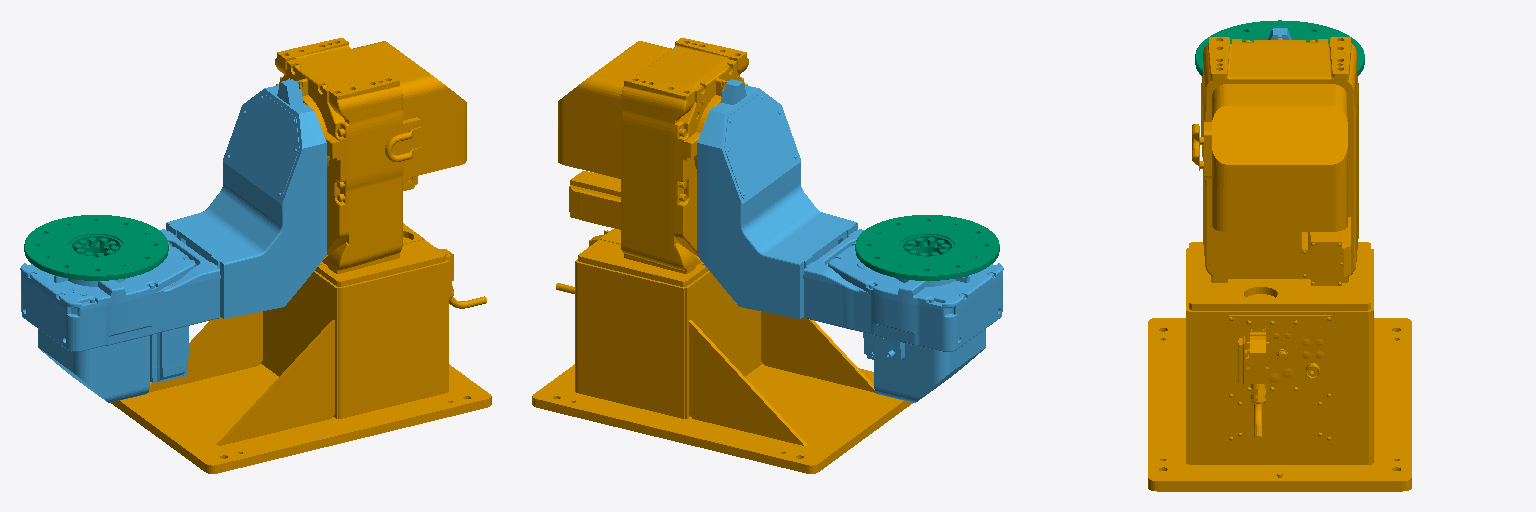
The robot description file, URDF, robot "Irbpa-500_D1000-H700_IRC5_rev02_CAD":
<?xml version="1.0" ?>
<robot name="Irbpa-500_D1000-H700_IRC5_rev02_CAD">

<link name="base_link">
  <inertial>
    <origin xyz="0.913511790946396 0.001453535026860657 0.4791474717826567" rpy="0 0 0"/>
    <mass value="1620.403998949394"/>
    <inertia ixx="221.809462" iyy="236.859274" izz="78.452145" ixy="-0.323189" iyz="-0.357894" ixz="-25.463331"/>
  </inertial>
  <visual>
    <origin xyz="0 0 0" rpy="0 0 0"/>
    <geometry>
      <mesh filename="package://Irbpa-500_D1000-H700_IRC5_rev02_CAD_description/meshes/base_link.stl" scale="0.001 0.001 0.001"/>
    </geometry>
    <material name="silver"/>
  </visual>
  <collision>
    <origin xyz="0 0 0" rpy="0 0 0"/>
    <geometry>
      <mesh filename="package://Irbpa-500_D1000-H700_IRC5_rev02_CAD_description/meshes/base_link.stl" scale="0.001 0.001 0.001"/>
    </geometry>
  </collision>
</link>

<link name="Irbpa-500_D1000-H700_IRC5_rev02_arm500A_CAD_1">
  <inertial>
    <origin xyz="-0.5359022486015766 -0.0033357651582393262 -0.36304474957646027" rpy="0 0 0"/>
    <mass value="511.1252334711299"/>
    <inertia ixx="22.821954" iyy="53.570647" izz="41.278063" ixy="0.038996" iyz="-0.339125" ixz="-19.039629"/>
  </inertial>
  <visual>
    <origin xyz="-0.722 0.0 -0.9" rpy="0 0 0"/>
    <geometry>
      <mesh filename="package://Irbpa-500_D1000-H700_IRC5_rev02_CAD_description/meshes/Irbpa-500_D1000-H700_IRC5_rev02_arm500A_CAD_1.stl" scale="0.001 0.001 0.001"/>
    </geometry>
    <material name="silver"/>
  </visual>
  <collision>
    <origin xyz="-0.722 0.0 -0.9" rpy="0 0 0"/>
    <geometry>
      <mesh filename="package://Irbpa-500_D1000-H700_IRC5_rev02_CAD_description/meshes/Irbpa-500_D1000-H700_IRC5_rev02_arm500A_CAD_1.stl" scale="0.001 0.001 0.001"/>
    </geometry>
  </collision>
</link>

<link name="Irbpa-500_D1000-H700_IRC5_rev02_platter_d450_CAD_1">
  <inertial>
    <origin xyz="-0.0011124864300729666 -5.688668147784807e-15 0.04336786560053996" rpy="0 0 0"/>
    <mass value="21.25030383337227"/>
    <inertia ixx="0.228504" iyy="0.231342" izz="0.446816" ixy="0.0" iyz="-0.0" ixz="-0.000583"/>
  </inertial>
  <visual>
    <origin xyz="0.0 0.0 -0.638" rpy="0 0 0"/>
    <geometry>
      <mesh filename="package://Irbpa-500_D1000-H700_IRC5_rev02_CAD_description/meshes/Irbpa-500_D1000-H700_IRC5_rev02_platter_d450_CAD_1.stl" scale="0.001 0.001 0.001"/>
    </geometry>
    <material name="silver"/>
  </visual>
  <collision>
    <origin xyz="0.0 0.0 -0.638" rpy="0 0 0"/>
    <geometry>
      <mesh filename="package://Irbpa-500_D1000-H700_IRC5_rev02_CAD_description/meshes/Irbpa-500_D1000-H700_IRC5_rev02_platter_d450_CAD_1.stl" scale="0.001 0.001 0.001"/>
    </geometry>
  </collision>
</link>

<joint name="j1" type="continuous">
  <origin xyz="0.722 0.0 0.9" rpy="0 0 0"/>
  <parent link="base_link"/>
  <child link="Irbpa-500_D1000-H700_IRC5_rev02_arm500A_CAD_1"/>
  <axis xyz="-1.0 -0.0 0.0"/>
</joint>

<joint name="j2" type="continuous">
  <origin xyz="-0.722 0.0 -0.262" rpy="0 0 0"/>
  <parent link="Irbpa-500_D1000-H700_IRC5_rev02_arm500A_CAD_1"/>
  <child link="Irbpa-500_D1000-H700_IRC5_rev02_platter_d450_CAD_1"/>
  <axis xyz="-0.0 0.0 -1.0"/>
</joint>

</robot>

--- Facts derived from the render (not from the file) ---
Views: 3 orthographic renders of the robot side by side, from view 1: azimuth 30°, elevation 25°; view 2: azimuth 150°, elevation 25°; view 3: azimuth 270°, elevation 25°.
Model Irbpa-500_D1000-H700_IRC5_rev02_CAD with 3 links and 2 joints (2 continuous), rooted at base_link, posed all joints at 0.
Visible links, largest first — view 1: base_link, Irbpa-500_D1000-H700_IRC5_rev02_arm500A_CAD_1, Irbpa-500_D1000-H700_IRC5_rev02_platter_d450_CAD_1; view 2: base_link, Irbpa-500_D1000-H700_IRC5_rev02_arm500A_CAD_1, Irbpa-500_D1000-H700_IRC5_rev02_platter_d450_CAD_1; view 3: base_link, Irbpa-500_D1000-H700_IRC5_rev02_platter_d450_CAD_1.
Link boxes in pixels (x1=…): base_link: x1=111, y1=38, x2=491, y2=473; Irbpa-500_D1000-H700_IRC5_rev02_arm500A_CAD_1: x1=20, y1=79, x2=326, y2=402; Irbpa-500_D1000-H700_IRC5_rev02_platter_d450_CAD_1: x1=24, y1=215, x2=168, y2=280; base_link: x1=532, y1=38, x2=912, y2=473; Irbpa-500_D1000-H700_IRC5_rev02_arm500A_CAD_1: x1=697, y1=79, x2=1003, y2=402; Irbpa-500_D1000-H700_IRC5_rev02_platter_d450_CAD_1: x1=855, y1=215, x2=999, y2=280; base_link: x1=1148, y1=37, x2=1411, y2=491; Irbpa-500_D1000-H700_IRC5_rev02_platter_d450_CAD_1: x1=1195, y1=20, x2=1364, y2=75.
Size in the robot's own frame: 1.59 by 0.7 by 1.11 metres.
3 mesh visuals loaded from 3 distinct referenced files (3 binary STL).
